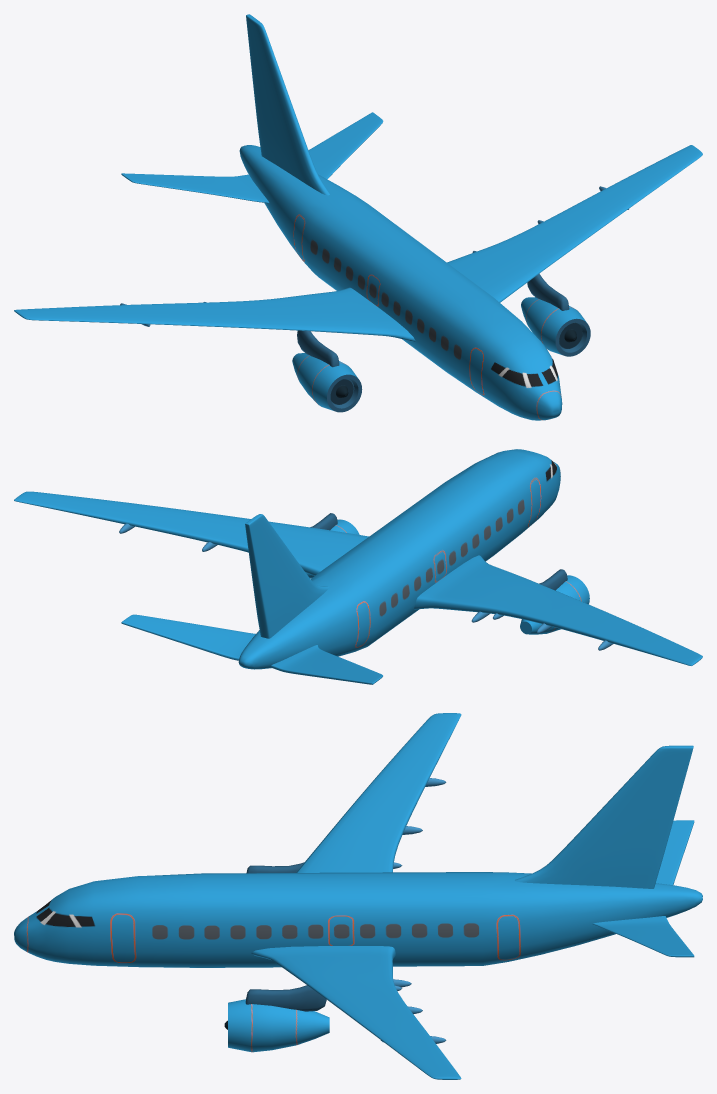
The model's file is airbus318_cyan.glb.
3 views of the same model, one above another, from view 1: azimuth 30°, elevation 25°; view 2: azimuth 150°, elevation 25°; view 3: azimuth 270°, elevation 25° (orthographic). The views are drawn at different scales.
Visible parts, largest first — view 1: airbus318, wings, wing-back-vertical, turbine, wings-back-horizontal, turbine-pad; view 2: airbus318, wings, wing-back-vertical, wings-back-horizontal, turbine, turbine-pad; view 3: airbus318, wings, wing-back-vertical, turbine, wings-back-horizontal, turbine-pad.
Boxes of the visible parts, x1,y1,x2,y2 form: airbus318: (239, 145, 562, 420); wings: (14, 145, 702, 341); wing-back-vertical: (246, 14, 329, 195); turbine: (292, 297, 590, 412); wings-back-horizontal: (121, 112, 383, 203); turbine-pad: (297, 273, 569, 367); airbus318: (238, 449, 560, 669); wings: (14, 491, 702, 665); wing-back-vertical: (245, 514, 329, 638); wings-back-horizontal: (121, 614, 382, 684); turbine: (306, 519, 589, 634); turbine-pad: (310, 513, 567, 590); airbus318: (14, 872, 702, 967); wings: (251, 713, 461, 1079); wing-back-vertical: (515, 745, 693, 888); turbine: (224, 999, 329, 1052); wings-back-horizontal: (592, 820, 694, 957); turbine-pad: (245, 862, 326, 1011).
Bounding box in the file's own units: 4.66 × 1.44 × 3.71.
Materials: 1 (1 with a texture image).
